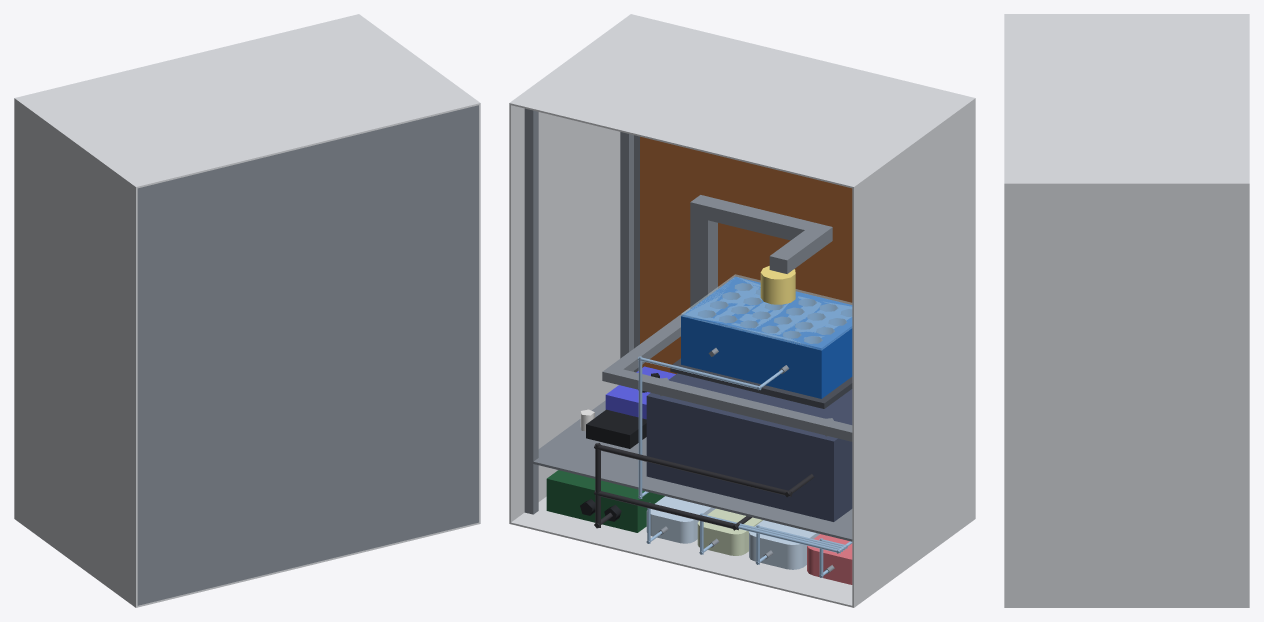
Rendered from MOD-biofilms.glb.
The picture shows the model from 3 angles, left to right: view 1: azimuth 30°, elevation 25°; view 2: azimuth 150°, elevation 25°; view 3: azimuth 270°, elevation 25°; orthographic projection.
Visible parts, largest first — view 1: housing__back_panel_bay_interface, housing__side_panel_L, housing__top_panel, housing__bottom_panel, housing__side_panel_R; view 2: housing__side_panel_L, housing__top_panel, housing__side_panel_R, thermal__cold_wall_to_the_bay_s_thermoelectric_block, imaging__microscope_base_optics_filter_cubes_camera, sample__cassette_24_wells_SBS_footprint_19_3_mm_pitch, housing__bottom_panel, housing__shelf_1, sample__cassette_lid_sealed_and_gas_permeable, housing__corner_post_4, imaging__XY_stage_frame_travel_96_5_x_57_9_mm_every_well_ove, electronics__controller_enclosure_boards_data_storage (+16 smaller); view 3: housing__side_panel_R, housing__top_panel, housing__bottom_panel.
Boxes of the visible parts, x1=… form: housing__back_panel_bay_interface: x1=137, y1=105, x2=478, y2=605; housing__side_panel_L: x1=14, y1=100, x2=137, y2=605; housing__top_panel: x1=14, y1=14, x2=480, y2=188; housing__bottom_panel: x1=14, y1=517, x2=480, y2=607; housing__side_panel_R: x1=479, y1=105, x2=480, y2=522; housing__side_panel_L: x1=852, y1=100, x2=975, y2=605; housing__top_panel: x1=509, y1=14, x2=975, y2=188; housing__side_panel_R: x1=509, y1=105, x2=620, y2=522; thermal__cold_wall_to_the_bay_s_thermoelectric_block: x1=640, y1=136, x2=852, y2=373; imaging__microscope_base_optics_filter_cubes_camera: x1=646, y1=373, x2=852, y2=521; sample__cassette_24_wells_SBS_footprint_19_3_mm_pitch: x1=681, y1=276, x2=852, y2=398; housing__bottom_panel: x1=509, y1=496, x2=975, y2=607; housing__shelf_1: x1=524, y1=400, x2=852, y2=541; sample__cassette_lid_sealed_and_gas_permeable: x1=681, y1=274, x2=852, y2=350; housing__corner_post_4: x1=524, y1=108, x2=538, y2=514; imaging__XY_stage_frame_travel_96_5_x_57_9_mm_every_well_ove: x1=602, y1=308, x2=852, y2=441; electronics__controller_enclosure_boards_data_storage: x1=546, y1=470, x2=664, y2=532; housing__side_panel_R: x1=1004, y1=185, x2=1249, y2=606; housing__top_panel: x1=1004, y1=14, x2=1249, y2=185; housing__bottom_panel: x1=1004, y1=606, x2=1249, y2=607.
Bounding box in the file's own units: 0.313 × 0.3652 × 0.1913.
